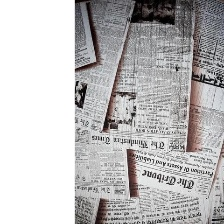news_paper: (74, 0, 198, 155), (128, 0, 224, 199), (73, 0, 139, 135), (93, 167, 206, 224), (73, 141, 135, 201), (73, 0, 99, 73), (204, 143, 224, 224), (73, 192, 105, 224)
